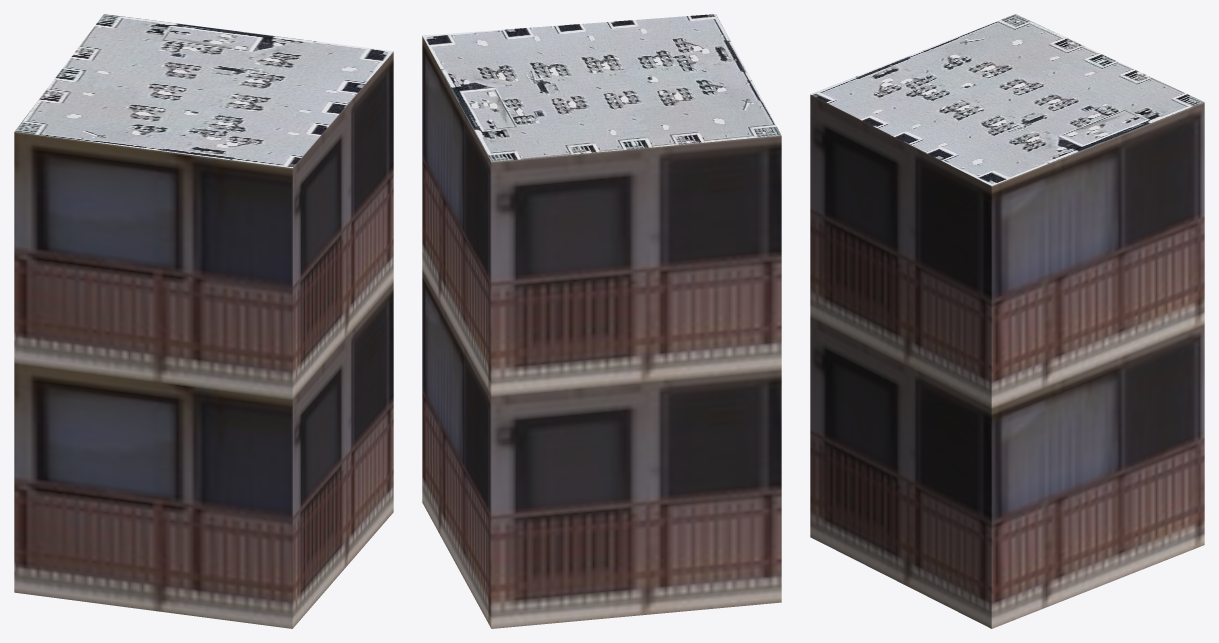
File: ResTex__1457.fbx
3 views of the same model, side by side, from view 1: azimuth 30°, elevation 25°; view 2: azimuth 150°, elevation 25°; view 3: azimuth 270°, elevation 25° (orthographic). The views are drawn at different scales.
Visible parts, largest first — view 1: CityEngineMaterial_6_m, CityEngineMaterial_m; view 2: CityEngineMaterial_6_m, CityEngineMaterial_m; view 3: CityEngineMaterial_6_m, CityEngineMaterial_m.
Part boxes in pixels (box(x1,y1,x2,y2)): CityEngineMaterial_6_m: box(14, 52, 393, 628); CityEngineMaterial_m: box(14, 14, 393, 168); CityEngineMaterial_6_m: box(422, 36, 781, 628); CityEngineMaterial_m: box(422, 14, 781, 161); CityEngineMaterial_6_m: box(810, 94, 1204, 628); CityEngineMaterial_m: box(810, 14, 1204, 185).
Bounding box in the file's own units: 5 × 6 × 4.84.
2 materials, 2 textured.
